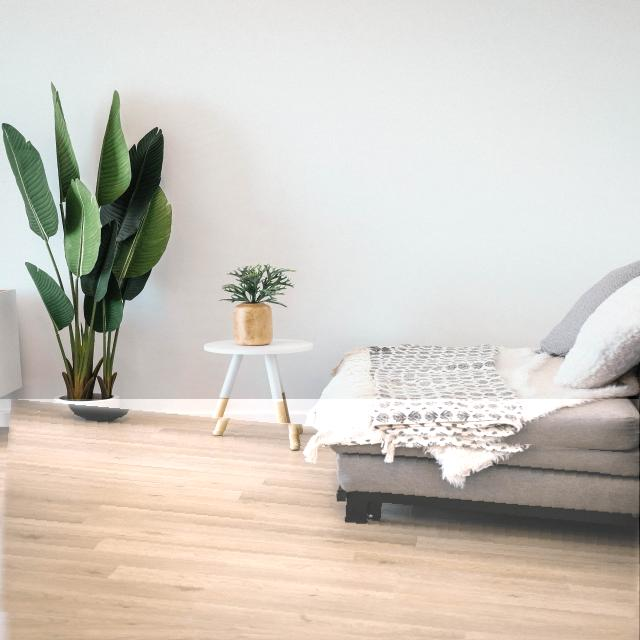floor: (0, 399, 639, 640)
